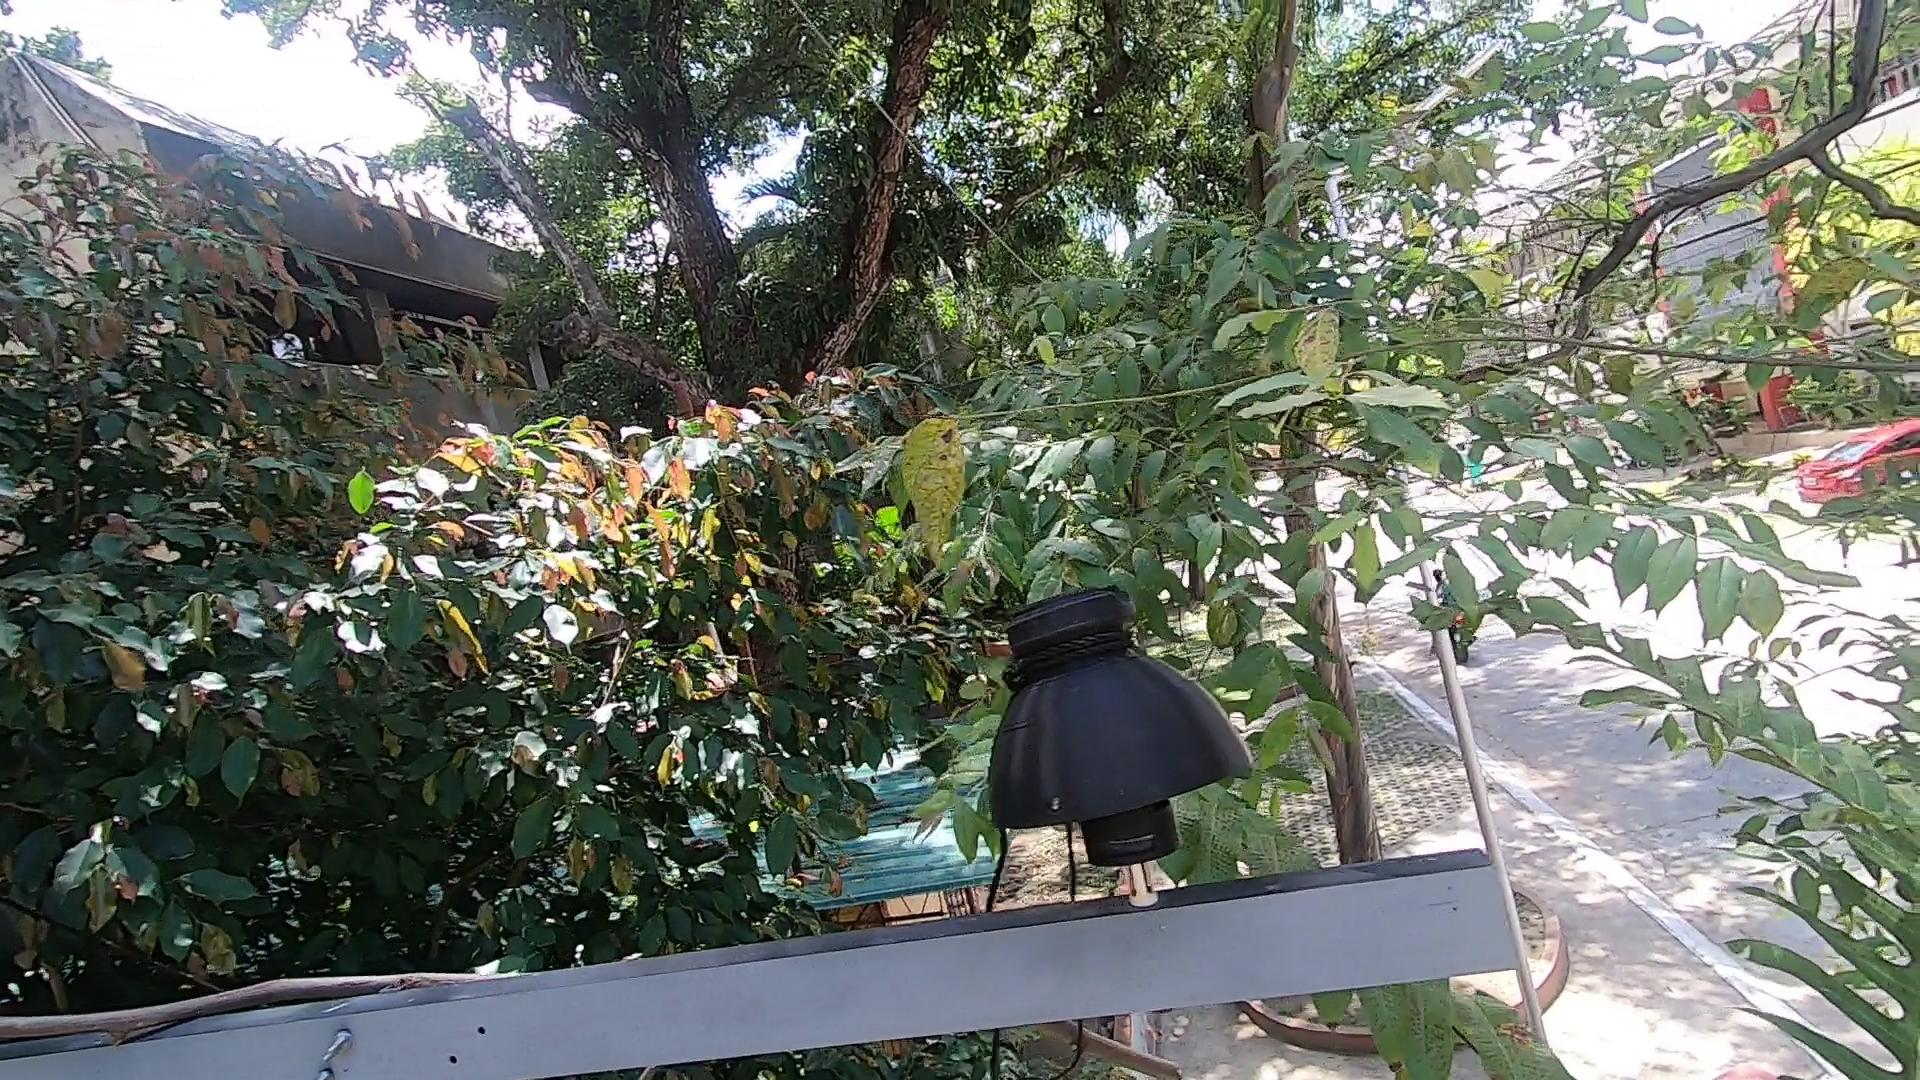tree branch: (1, 951, 483, 1044), (997, 1017, 1185, 1077)
